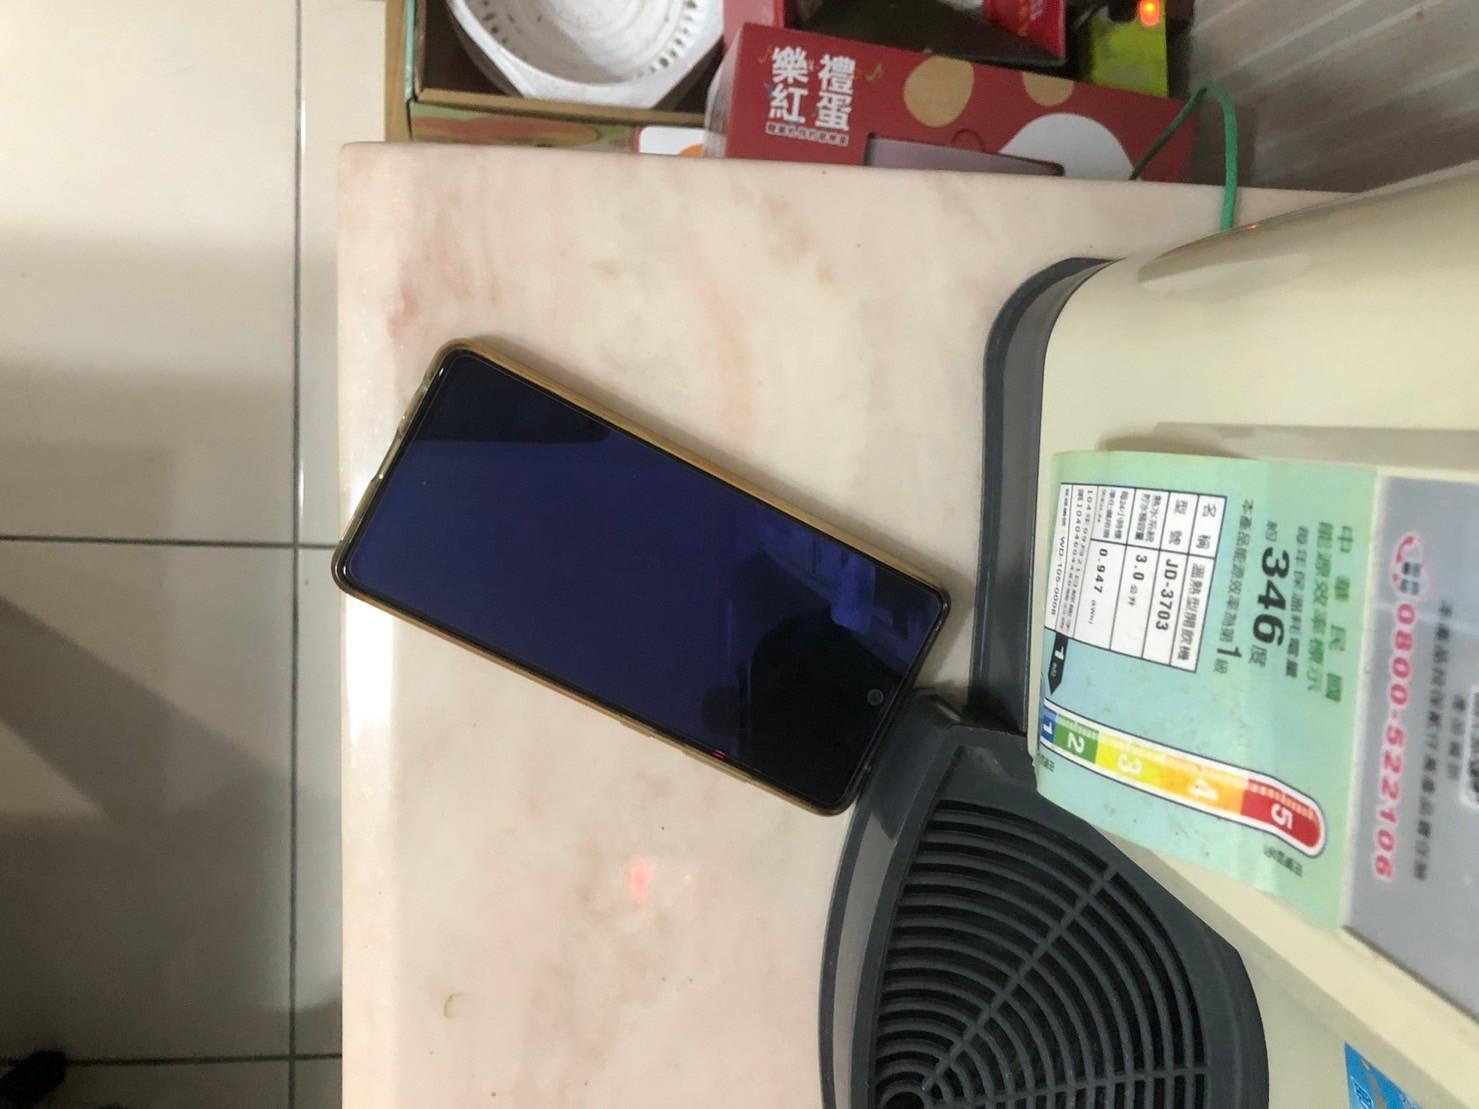Phone: (275, 276, 983, 849)
